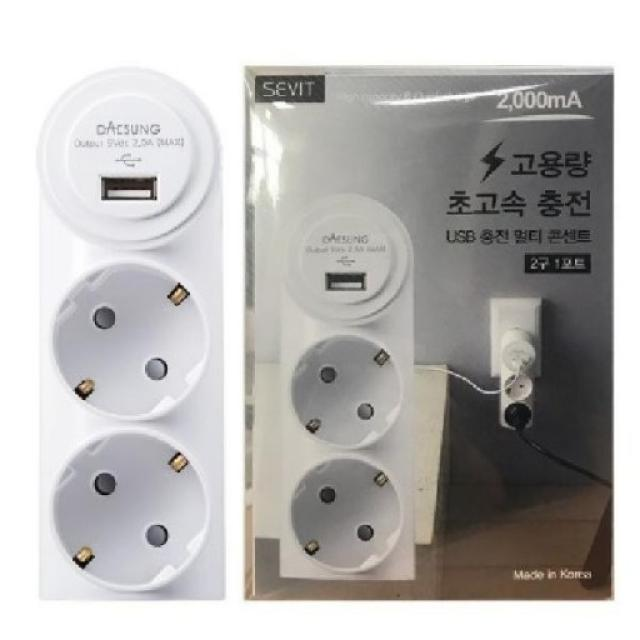typeb: (8, 15, 242, 629)
